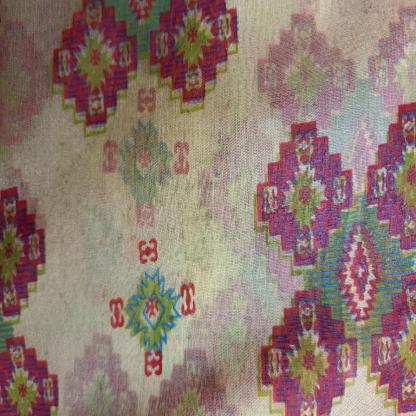spot: (200, 184, 222, 259)
